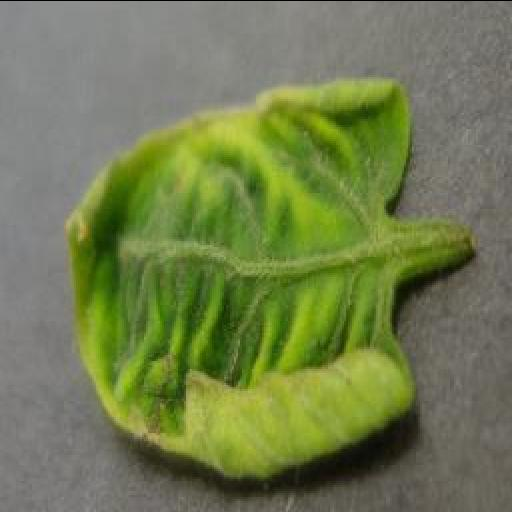disease_tomato: (63, 74, 417, 480)
